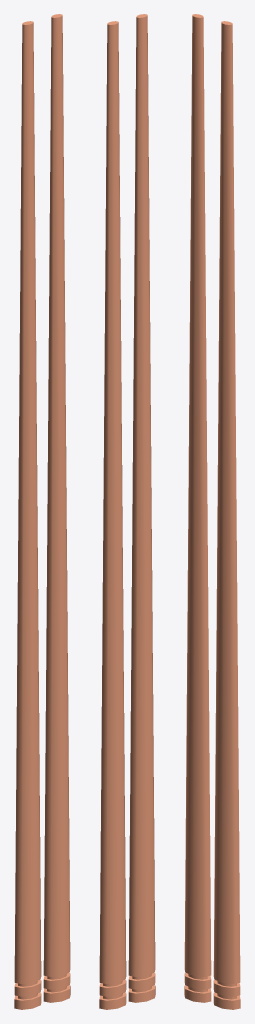
The model's file is chopsticks_005.glb.
The picture shows the model from 3 angles, left to right: view 1: azimuth 30°, elevation 25°; view 2: azimuth 210°, elevation 25°; view 3: azimuth 330°, elevation 25°; orthographic projection.
Parts seen in each view (by area): view 1: chopsticks.005; view 2: chopsticks.005; view 3: chopsticks.005.
Part boxes in pixels (left/top/right/bottom): chopsticks.005: left=14, top=14, right=70, bottom=1009; chopsticks.005: left=99, top=14, right=155, bottom=1009; chopsticks.005: left=184, top=14, right=240, bottom=1009.
Size of the model in its own units: 0.33 by 5.51 by 0.0955.
1 material, 1 textured.
